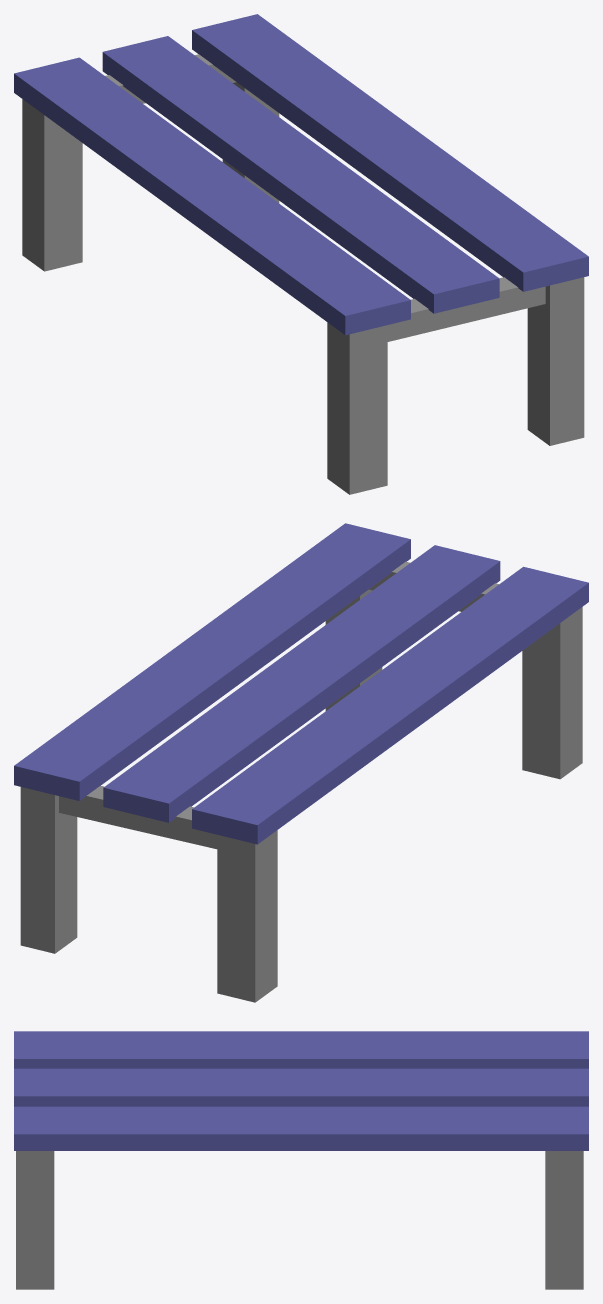
File: SMOLBENCH.fbx
The picture shows the model from 3 angles, top to bottom: view 1: azimuth 30°, elevation 25°; view 2: azimuth 150°, elevation 25°; view 3: azimuth 270°, elevation 25°; orthographic projection. The views are drawn at different scales.
Visible parts, largest first — view 1: Cube.008, Cube.006, Cube.007, Cube.001, Cube, Cube.002, Cube.004; view 2: Cube.008, Cube.007, Cube.006, Cube, Cube.001, Cube.003, Cube.005; view 3: Cube.006, Cube.007, Cube.008, Cube.002, Cube.003.
Part boxes in pixels (box(x1,y1,x2,y2)): Cube.008: box(14, 57, 410, 335); Cube.006: box(192, 14, 588, 291); Cube.007: box(102, 36, 499, 313); Cube.001: box(327, 322, 387, 494); Cube: box(22, 99, 82, 271); Cube.002: box(527, 277, 584, 445); Cube.004: box(387, 277, 545, 341); Cube.008: box(192, 566, 588, 844); Cube.007: box(103, 545, 500, 822); Cube.006: box(14, 523, 410, 800); Cube: box(217, 830, 277, 1002); Cube.001: box(522, 607, 582, 779); Cube.003: box(20, 787, 77, 953); Cube.005: box(59, 785, 217, 849); Cube.006: box(14, 1106, 588, 1150); Cube.007: box(14, 1068, 588, 1106); Cube.008: box(14, 1031, 588, 1068); Cube.002: box(16, 1151, 54, 1289); Cube.003: box(545, 1151, 583, 1289).
Bounding box in the file's own units: 119 × 84.39 × 280.
